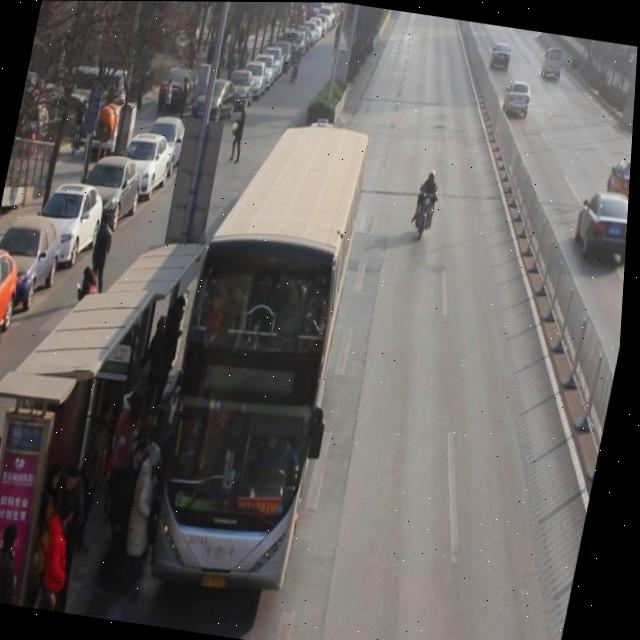car: (573, 187, 631, 270), (606, 148, 633, 215), (503, 79, 537, 121), (489, 39, 516, 75)
truck: (540, 43, 570, 83)
van: (143, 119, 375, 601)
